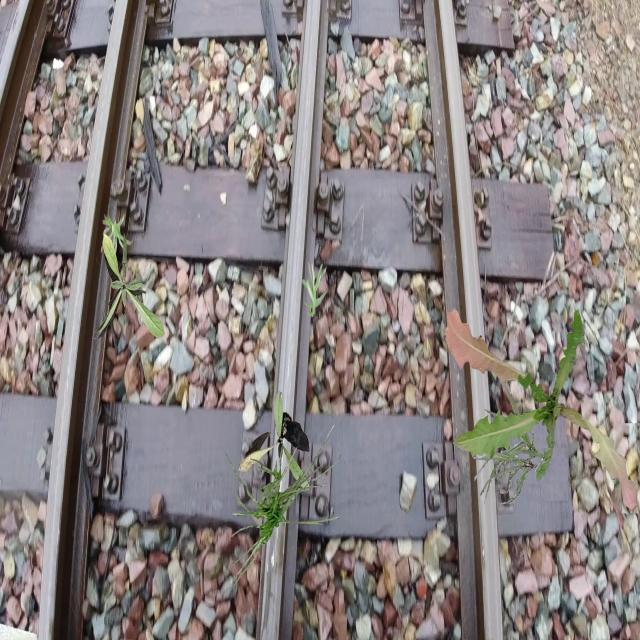Plant: (445, 308, 638, 510), (223, 423, 342, 586), (474, 380, 547, 504), (93, 232, 164, 340), (238, 391, 310, 491), (101, 213, 134, 259), (302, 261, 328, 318)
